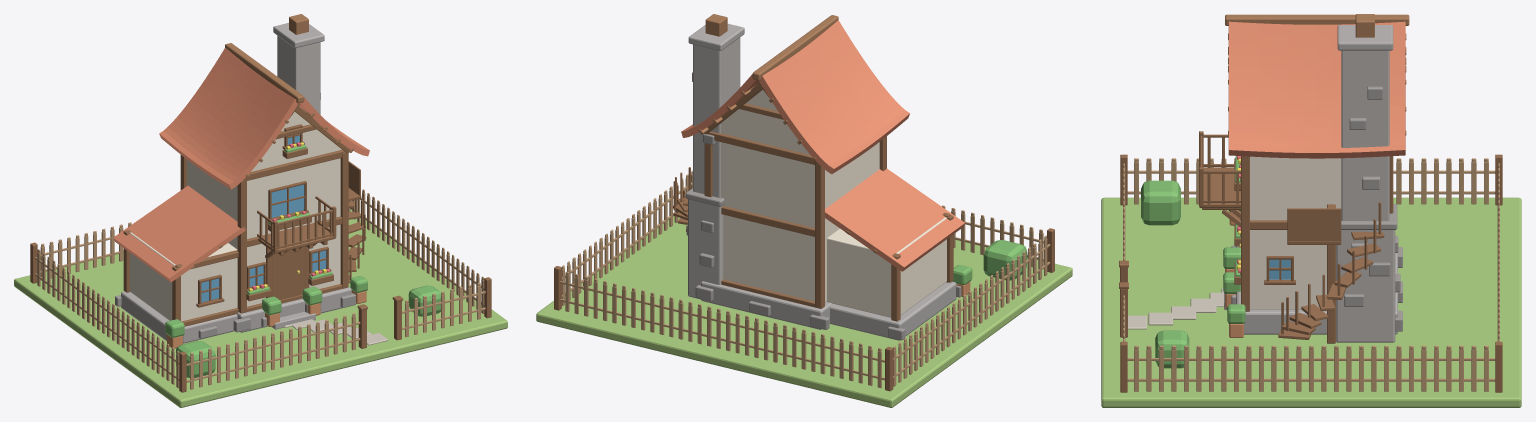
The model's file is house_tudor.glb.
3 renders of one model, left to right at view 1: azimuth 30°, elevation 25°; view 2: azimuth 150°, elevation 25°; view 3: azimuth 270°, elevation 25°, orthographic. The views are drawn at different scales.
Parts seen in each view (by area): view 1: YardLawn, Roof_Terracotta_Main, Roof_Terracotta_Wing, HouseMainBody, WingBody, Chimney_Stack, FoundationWing, GableWall_-1, FrontDoorArch, Beam_Post_FL, Beam_Post_FR, FoundationMain (+7 smaller); view 2: YardLawn, HouseMainBody, Roof_Terracotta_Main, Roof_Terracotta_Wing, WingBody, Chimney_Stack, Chimney_Base, FoundationWing, GableWall_1, FoundationMain, Beam_Post_BL, TudorShrub_1 (+9 smaller); view 3: YardLawn, Roof_Terracotta_Main, HouseMainBody, Chimney_Stack, Chimney_Base, StairPlatRail, TudorShrub_1, RoofRidgeCap, FoundationMain, Beam_Post_FR, Chimney_Cap, BalconyFloorDeck (+11 smaller).
Boxes of the visible parts, box(x1,y1,x2,y2) form: YardLawn: box(14, 209, 507, 407); Roof_Terracotta_Main: box(159, 48, 369, 189); Roof_Terracotta_Wing: box(113, 185, 245, 282); HouseMainBody: box(187, 158, 340, 306); WingBody: box(130, 232, 237, 321); Chimney_Stack: box(277, 36, 320, 114); FoundationWing: box(121, 291, 237, 343); GableWall_-1: box(251, 112, 341, 171); FrontDoorArch: box(272, 246, 304, 300); Beam_Post_FL: box(237, 177, 246, 313); Beam_Post_FR: box(340, 152, 348, 288); FoundationMain: box(237, 287, 351, 332); YardLawn: box(536, 216, 1072, 407); HouseMainBody: box(720, 142, 879, 302); Roof_Terracotta_Main: box(681, 20, 909, 174); Roof_Terracotta_Wing: box(825, 168, 964, 271); WingBody: box(826, 217, 946, 317); Chimney_Stack: box(693, 37, 740, 197); Chimney_Base: box(688, 199, 723, 299); FoundationWing: box(829, 281, 956, 340); GableWall_1: box(720, 90, 809, 154); FoundationMain: box(701, 281, 833, 329); Beam_Post_BL: box(815, 160, 824, 308); TudorShrub_1: box(983, 240, 1026, 280); YardLawn: box(1101, 197, 1521, 407); Roof_Terracotta_Main: box(1228, 21, 1405, 158); HouseMainBody: box(1250, 156, 1341, 309); Chimney_Stack: box(1341, 50, 1389, 220); Chimney_Base: box(1336, 230, 1395, 342); StairPlatRail: box(1287, 208, 1341, 241); TudorShrub_1: box(1141, 180, 1180, 225); RoofRidgeCap: box(1225, 14, 1409, 25); FoundationMain: box(1236, 246, 1397, 334); Beam_Post_FR: box(1241, 156, 1249, 311); Chimney_Cap: box(1337, 25, 1393, 50); BalconyFloorDeck: box(1199, 167, 1240, 207).
Size of the model in its own units: 8.4 by 6.35 by 7.4.
